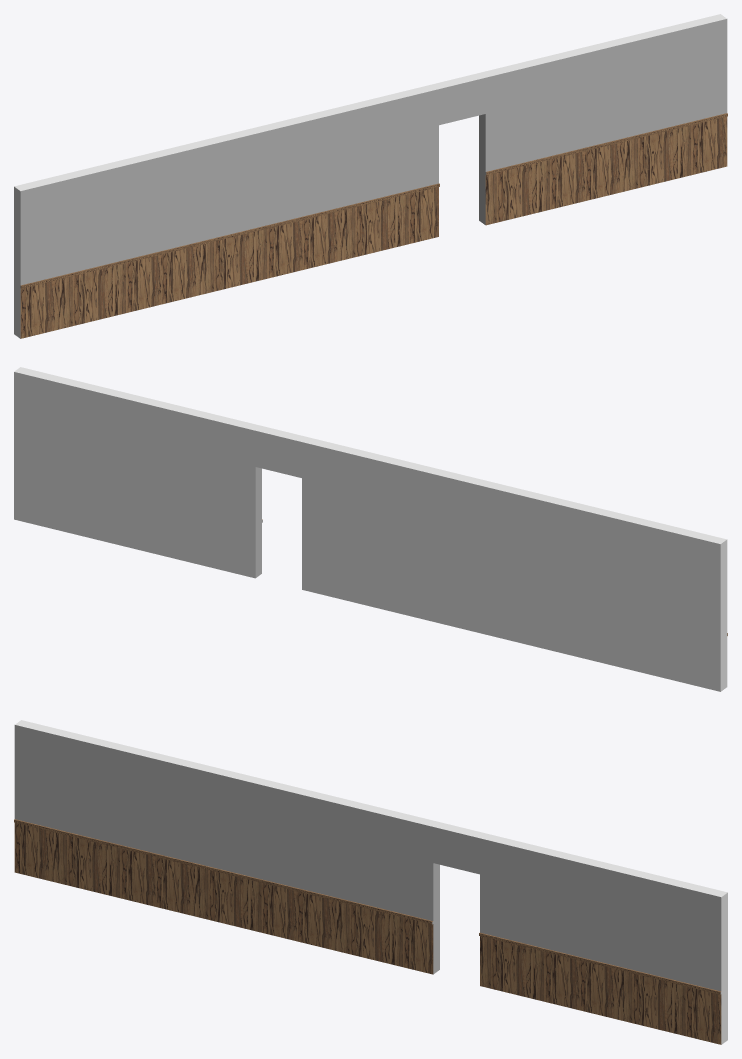
The model's file is Wall 2.FBX.
3 views of the same model, one above another, from view 1: azimuth 30°, elevation 25°; view 2: azimuth 150°, elevation 25°; view 3: azimuth 330°, elevation 25° (orthographic).
Parts seen in each view (by area): view 1: Wall 2; view 2: Wall 2; view 3: Wall 2.
Boxes of the visible parts, bbox=[...] form: Wall 2: bbox=[14, 14, 727, 338]; Wall 2: bbox=[14, 367, 727, 691]; Wall 2: bbox=[14, 720, 727, 1044].
Size of the model in its own units: 1363 by 272 by 24.56.
